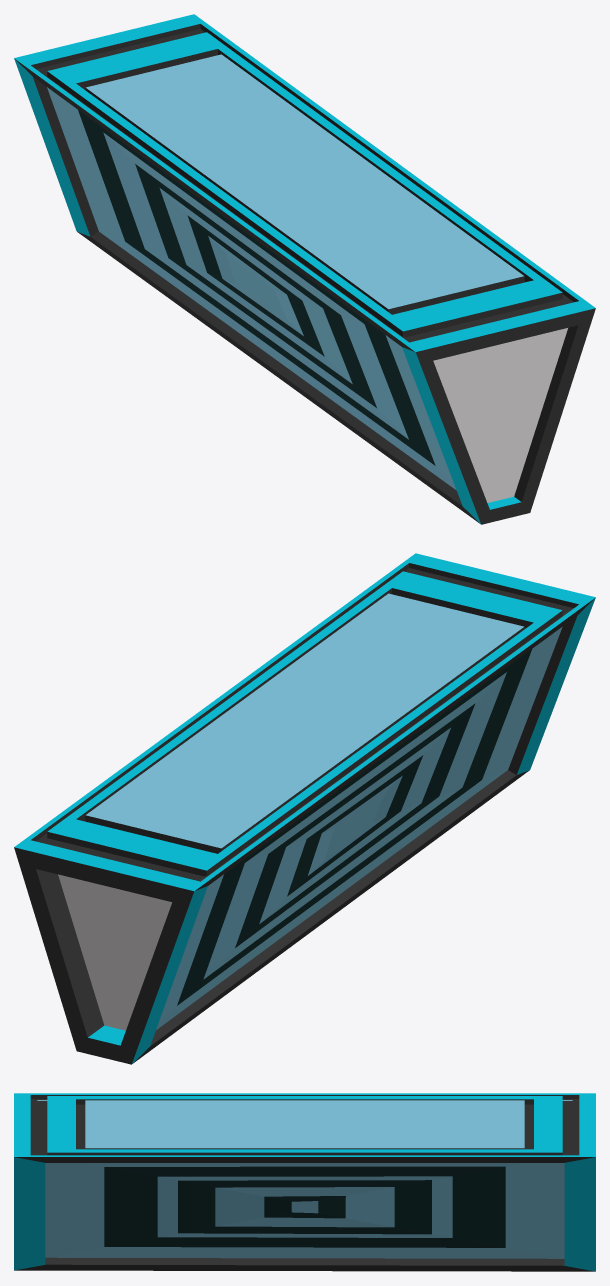
The model's file is pilatuforam.fbx.
The picture shows the model from 3 angles, top to bottom: view 1: azimuth 30°, elevation 25°; view 2: azimuth 150°, elevation 25°; view 3: azimuth 270°, elevation 25°; orthographic projection. The views are drawn at different scales.
Parts seen in each view (by area): view 1: Cube; view 2: Cube; view 3: Cube.
Part boxes in pixels (left/top/right/bottom): Cube: left=14, top=14, right=595, bottom=524; Cube: left=14, top=553, right=595, bottom=1064; Cube: left=14, top=1093, right=595, bottom=1271.
Size of the model in its own units: 200 by 201 by 772.
